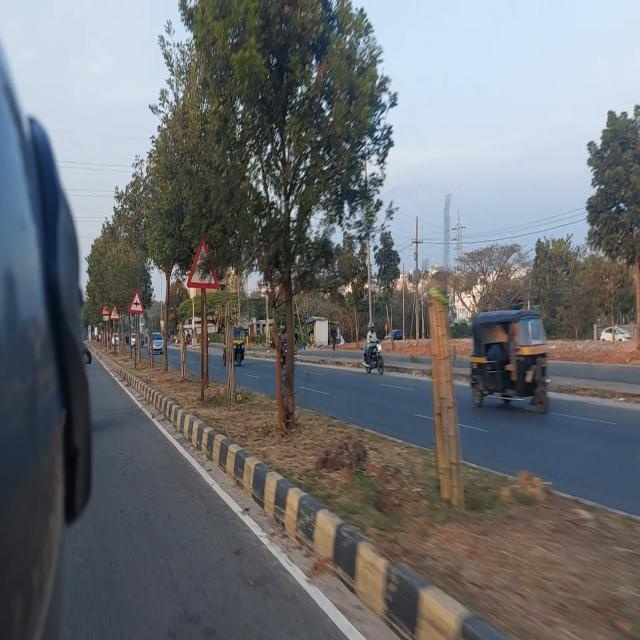bien_nguy_hiem: (128, 286, 143, 316), (110, 303, 120, 320)
